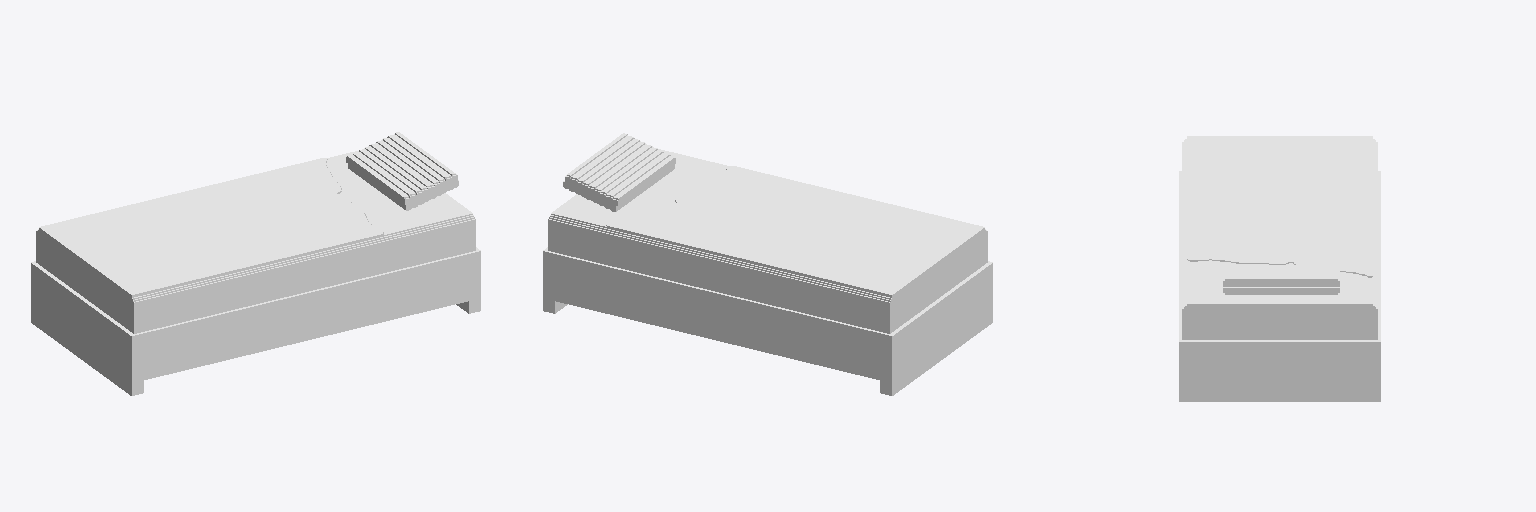
The model's file is Cama.obj.
The picture shows the model from 3 angles: view 1: azimuth 30°, elevation 25°; view 2: azimuth 150°, elevation 25°; view 3: azimuth 270°, elevation 25°; orthographic projection.
Parts seen in each view (by area): view 1: object 1; view 2: object 1; view 3: object 1.
Part boxes in pixels (bbox=[...]): object 1: bbox=[31, 132, 480, 395]; object 1: bbox=[543, 133, 992, 395]; object 1: bbox=[1179, 136, 1380, 401].
Size of the model in its own units: 25.6 by 8.5 by 12.8.